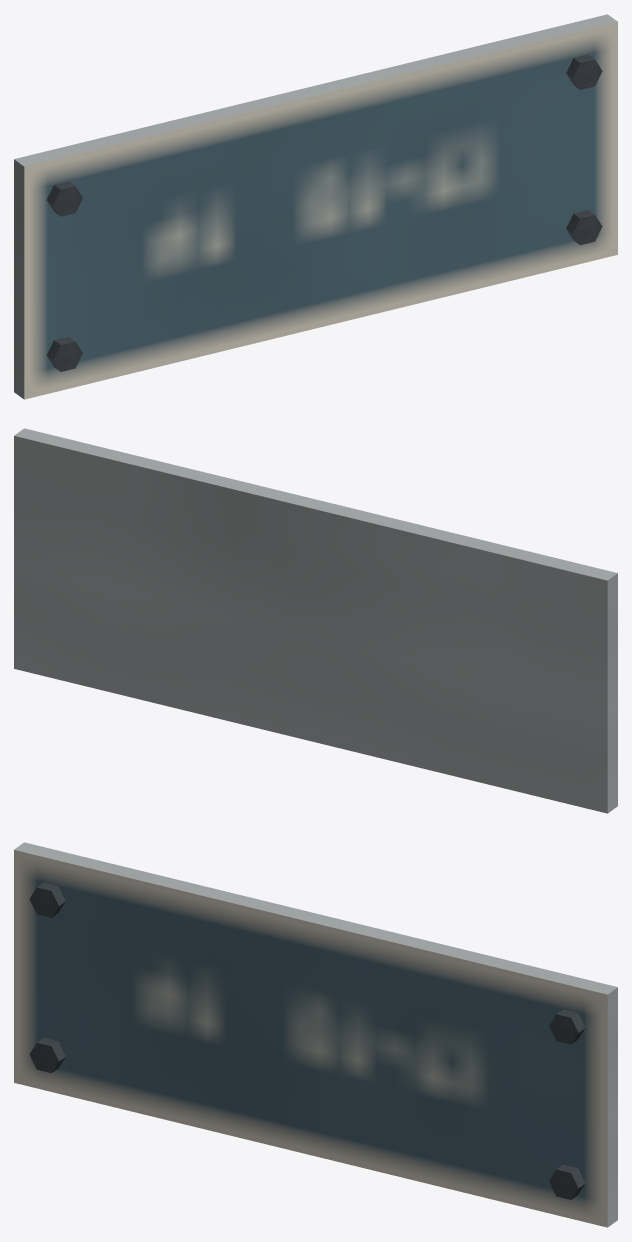
File: sign_cells.fbx
3 views of the same model, one above another, from view 1: azimuth 30°, elevation 25°; view 2: azimuth 150°, elevation 25°; view 3: azimuth 330°, elevation 25° (orthographic).
Visible parts, largest first — view 1: sign_cells; view 2: sign_cells; view 3: sign_cells.
Boxes of the visible parts, left/top/right/bottom form: sign_cells: left=14, top=14, right=617, bottom=399; sign_cells: left=14, top=428, right=617, bottom=813; sign_cells: left=14, top=842, right=617, bottom=1227.
Size of the model in its own units: 0.4 by 0.15 by 0.02.
1 material, 1 textured.
